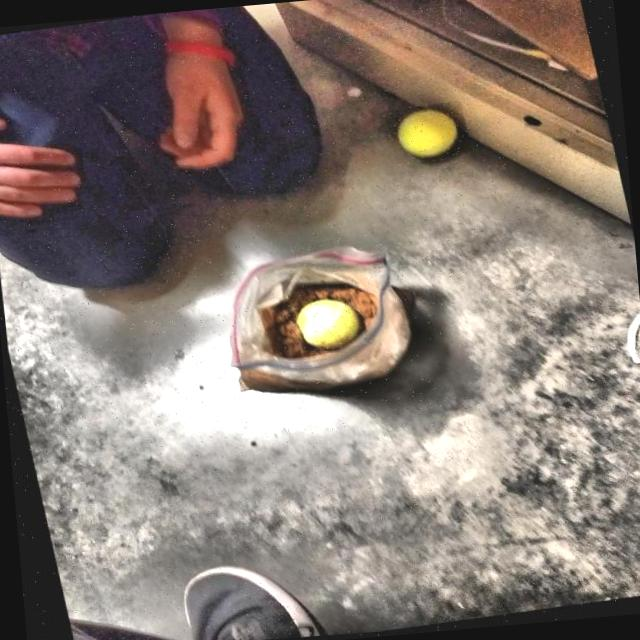Tennis Ball: (381, 100, 472, 170), (284, 293, 366, 356)
